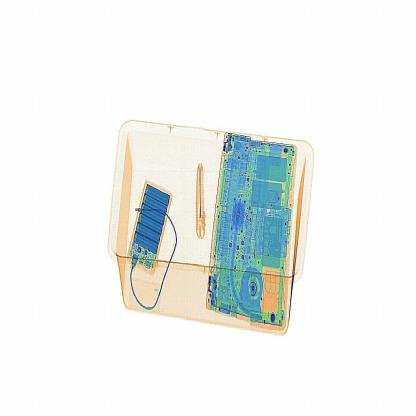pliers: (195, 162, 208, 242)
